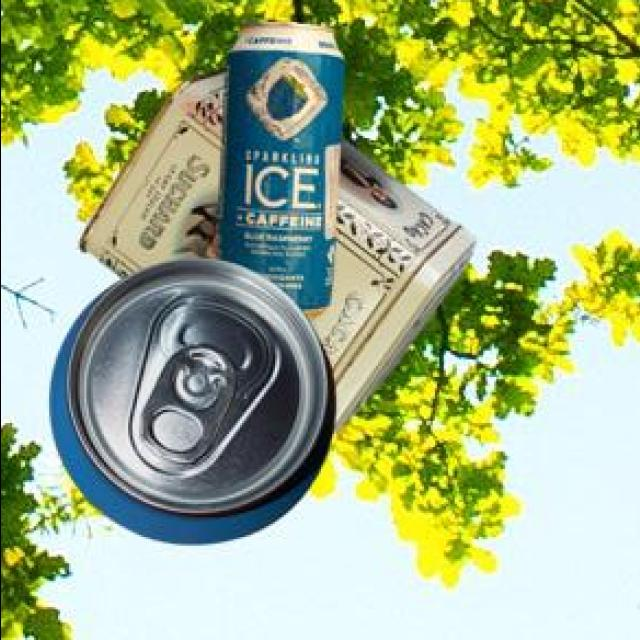logam: (76, 72, 470, 435), (45, 262, 332, 547), (212, 25, 341, 323)
